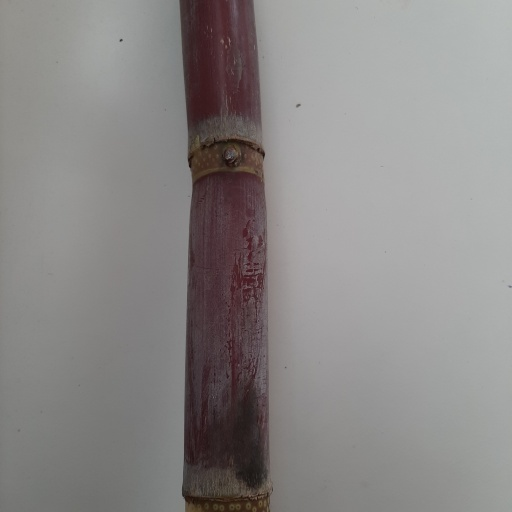Bud: (222, 140, 241, 169)
